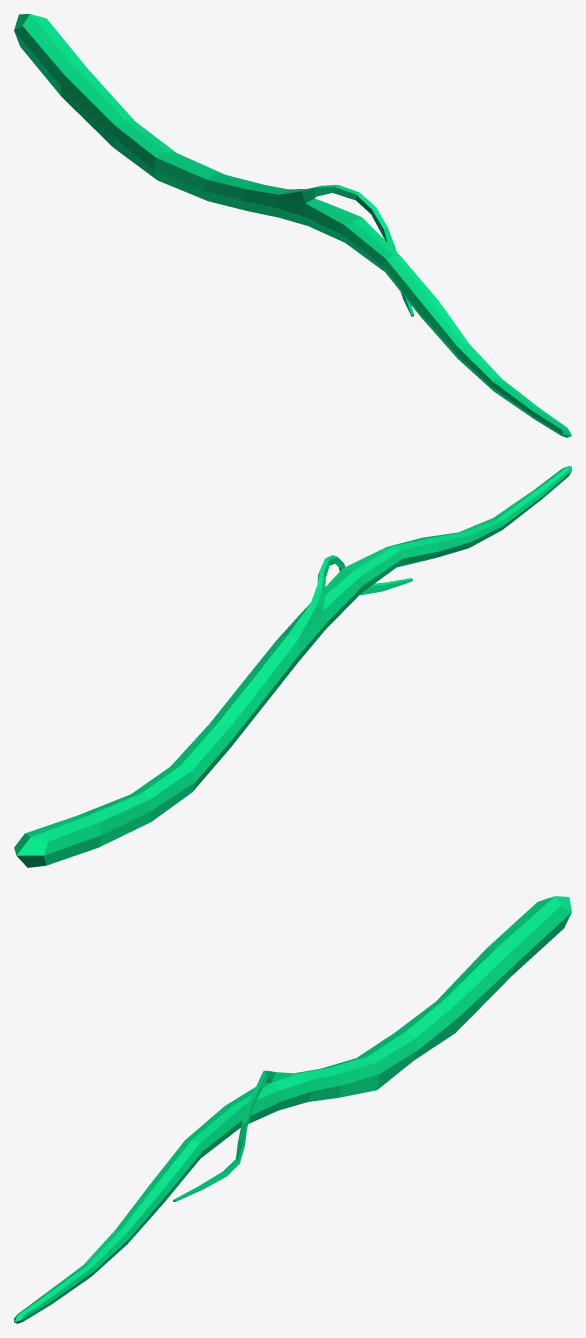
The model's file is Bough_01_Lod1.fbx.
3 views of the same model, one above another, from view 1: azimuth 30°, elevation 25°; view 2: azimuth 150°, elevation 25°; view 3: azimuth 330°, elevation 25° (orthographic).
Parts seen in each view (by area): view 1: Bough_01_Lod1; view 2: Bough_01_Lod1; view 3: Bough_01_Lod1.
Boxes of the visible parts, left/top/right/bottom form: Bough_01_Lod1: left=14, top=14, right=571, bottom=437; Bough_01_Lod1: left=14, top=466, right=571, bottom=867; Bough_01_Lod1: left=14, top=896, right=571, bottom=1323.
Bounding box in the file's own units: 31.31 × 66.5 × 619.
